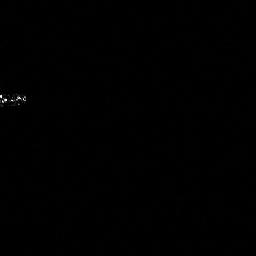ship: (1, 88, 30, 111)
